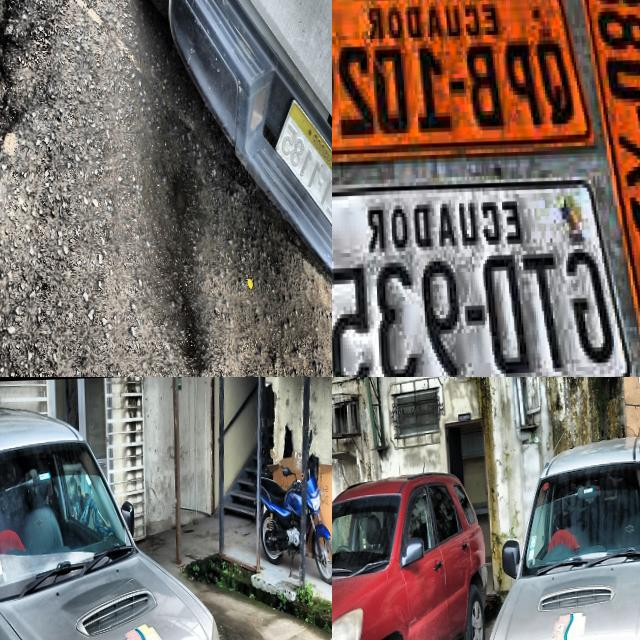license_plate: (332, 168, 640, 377), (332, 0, 600, 176), (577, 0, 640, 359), (272, 90, 332, 226)
